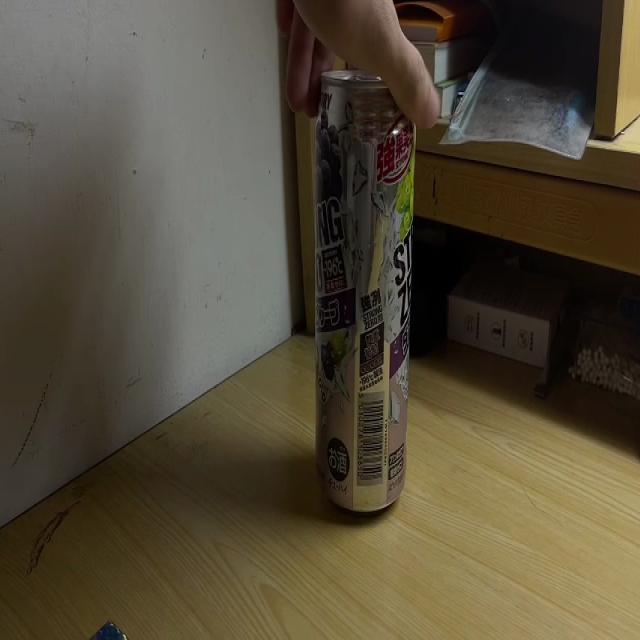Liquor: (313, 61, 412, 521)
